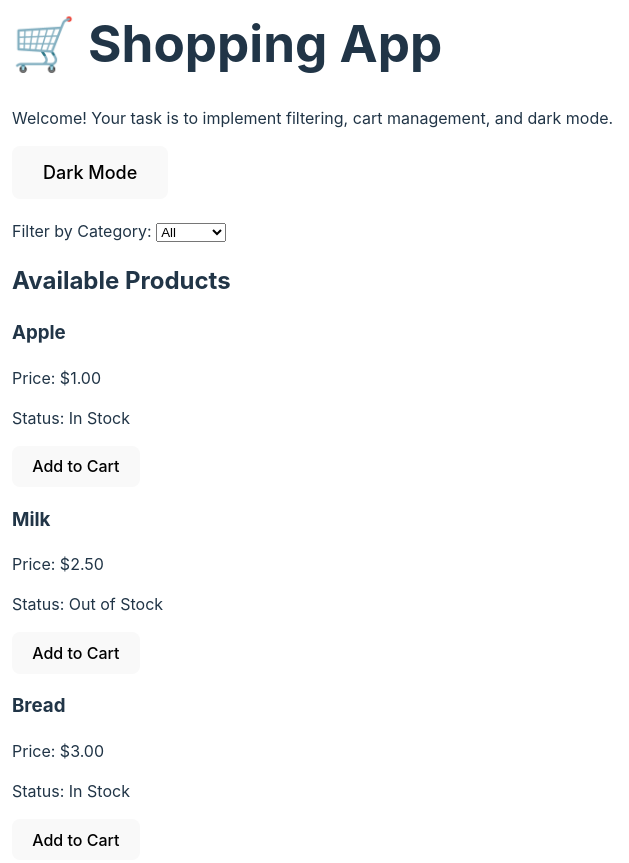
it: shows "No products available" when filtering removes all products
Select "Veggies" in the dropdown at (191, 232), box [156, 223, 226, 242]
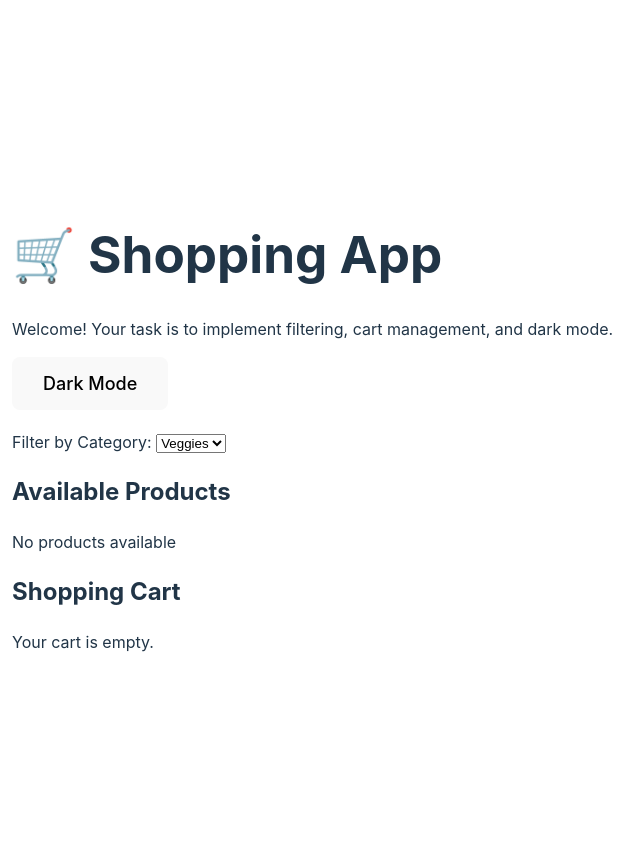
Result: the text "No products available" is shown at [12, 532, 176, 552]
